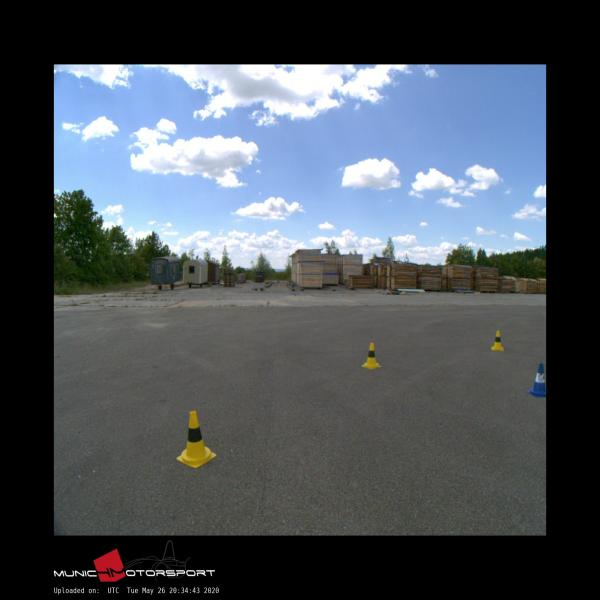blue_cone: (527, 364, 546, 396)
yellow_cone: (176, 411, 216, 467), (361, 342, 380, 368), (491, 330, 503, 351)
